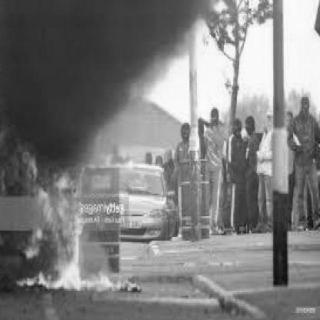Fire: (5, 135, 133, 303)
Smoke: (2, 3, 204, 135)
